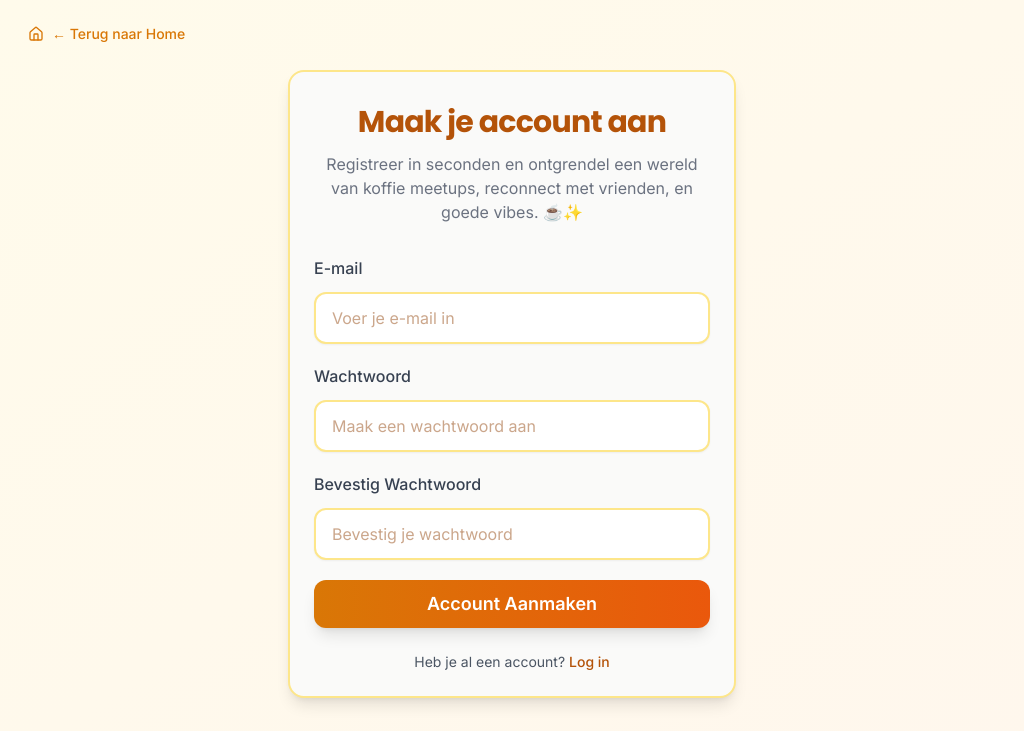
Scenario: SignUpPage › shows error message on sign up failure
Type "test@example.com" into the field labelled "E-mail" at (512, 318), box x1=314 y1=292 x2=710 y2=344
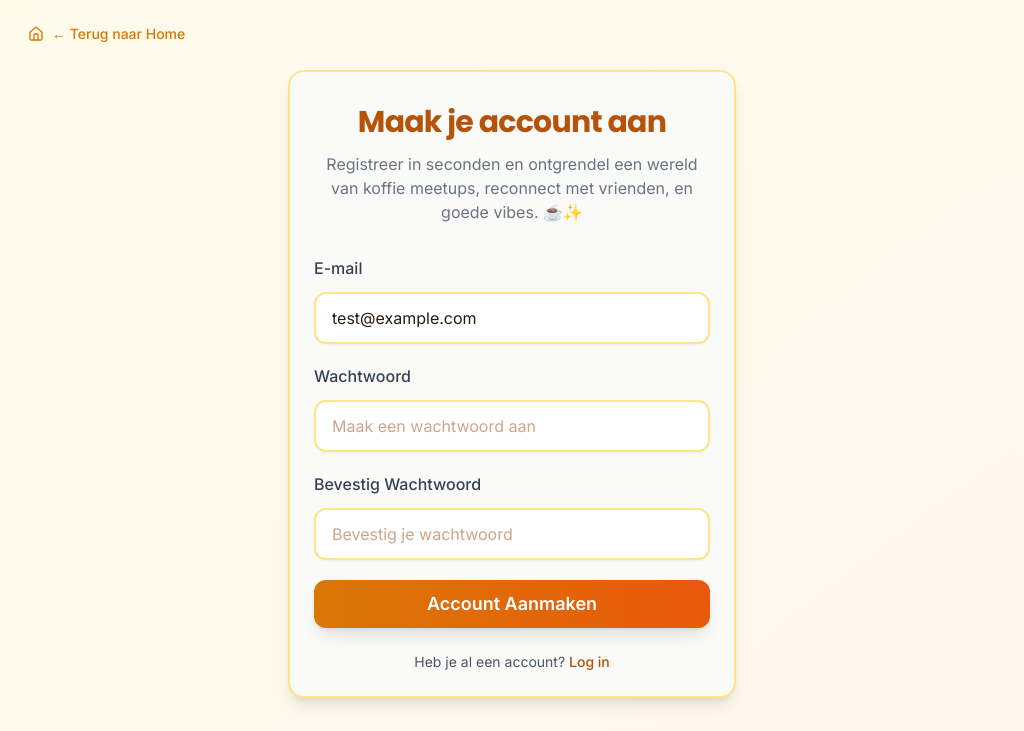
Type "password123" into the password field labelled "Wachtwoord" at (512, 426), box x1=314 y1=400 x2=710 y2=452
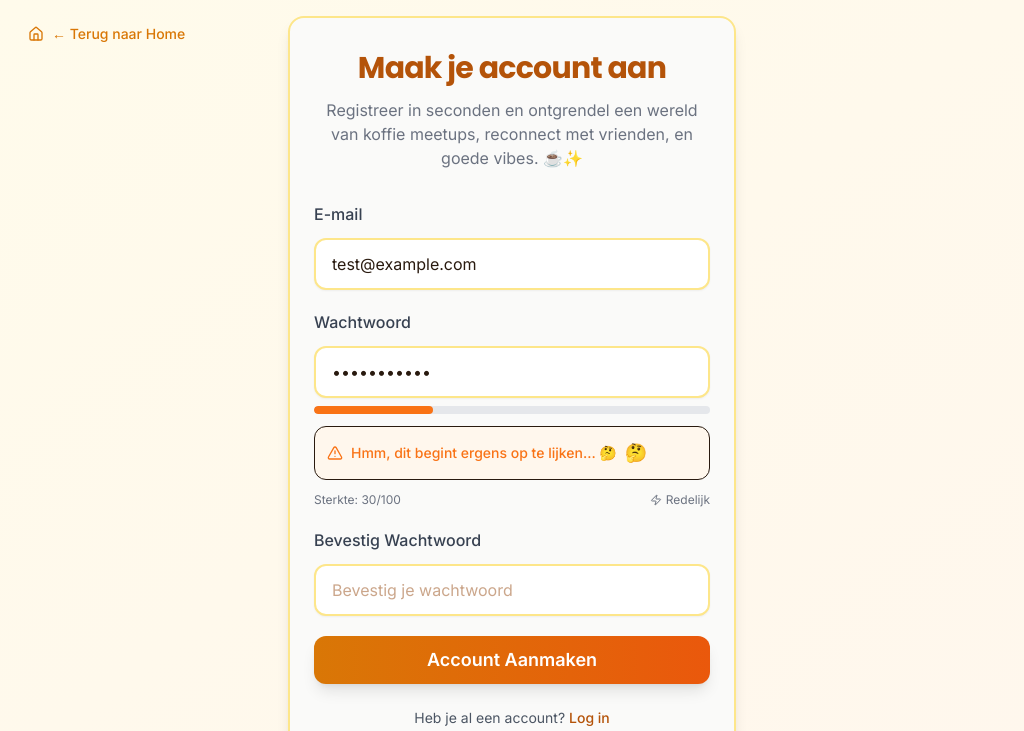
Type "password123" into the password field labelled "Bevestig Wachtwoord" at (512, 590), box x1=314 y1=564 x2=710 y2=616
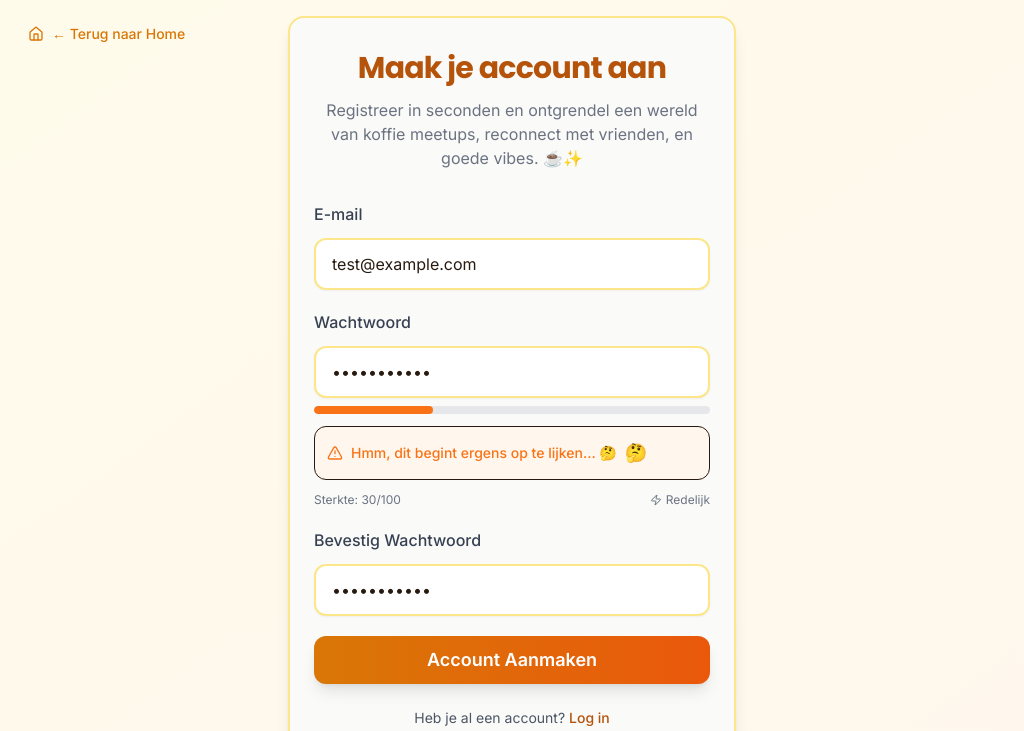
Click the button "Account Aanmaken" at (512, 660), box x1=314 y1=636 x2=710 y2=684
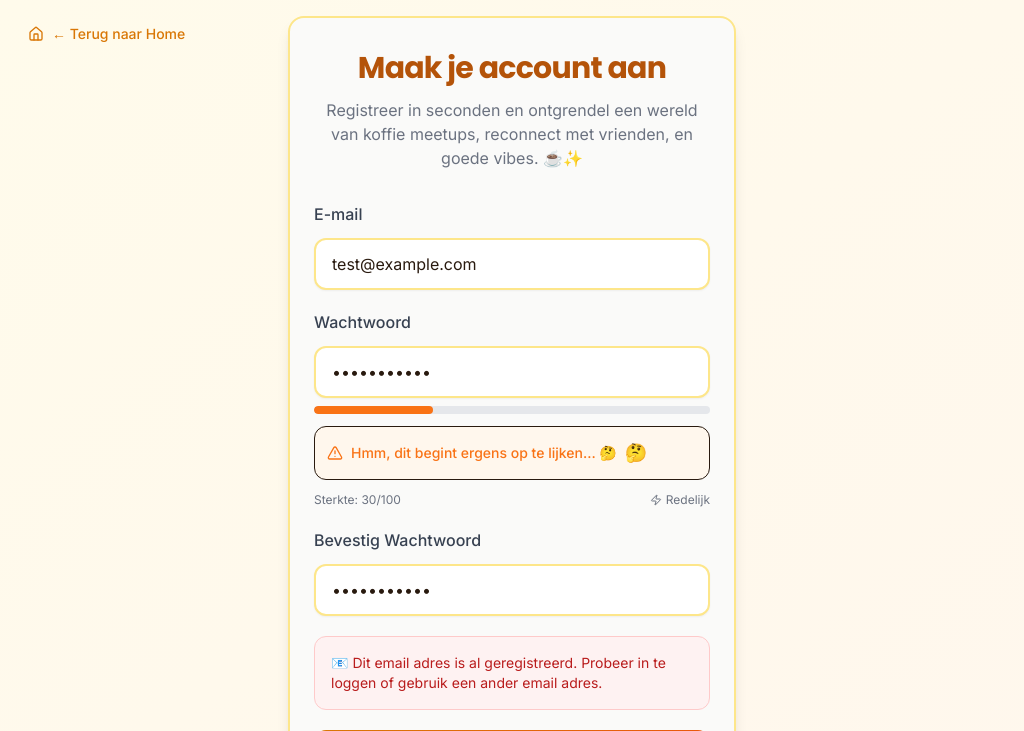
expect the text "📧 Dit email adres is al geregistreerd. Probeer in te loggen of gebruik een ander email adres." is shown: met, box x1=331 y1=654 x2=666 y2=691
